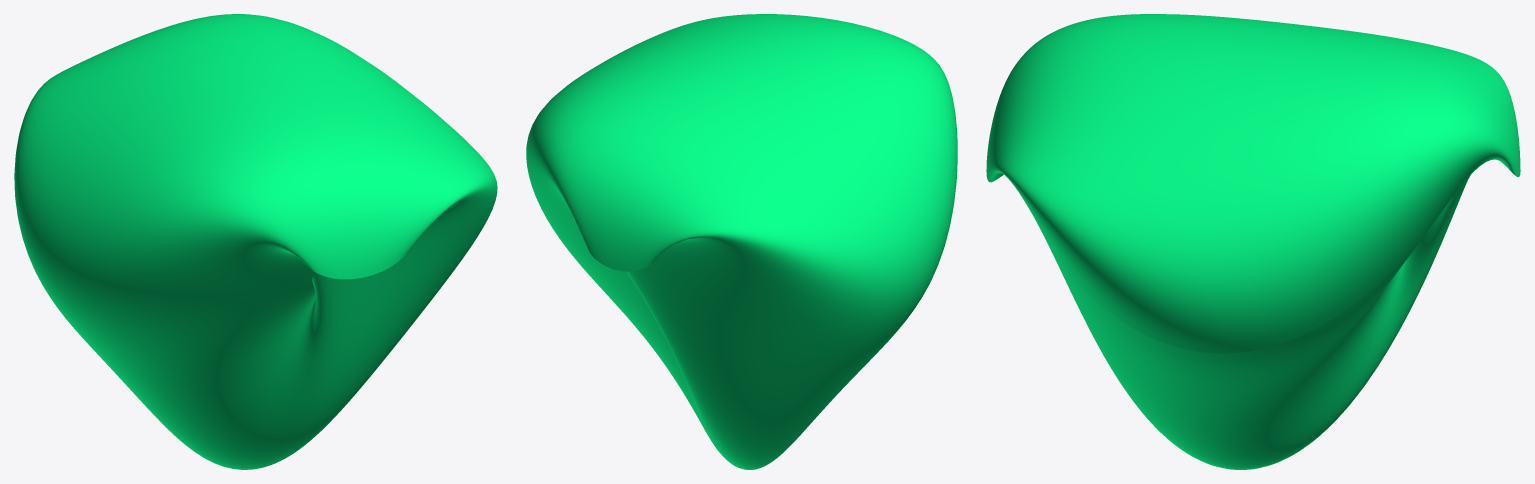
The model's file is e8_lattice_ar_universal.glb.
3 renders of one model, left to right at view 1: azimuth 30°, elevation 25°; view 2: azimuth 150°, elevation 25°; view 3: azimuth 270°, elevation 25°, orthographic. The views are drawn at different scales.
Parts seen in each view (by area): view 1: e8_lattice_ar; view 2: e8_lattice_ar; view 3: e8_lattice_ar.
Part boxes in pixels (x1,y1,x2,y2): e8_lattice_ar: (14, 14, 497, 469); e8_lattice_ar: (526, 14, 957, 469); e8_lattice_ar: (986, 14, 1520, 469).
Size of the model in its own units: 0.9206 by 0.8854 by 1.
